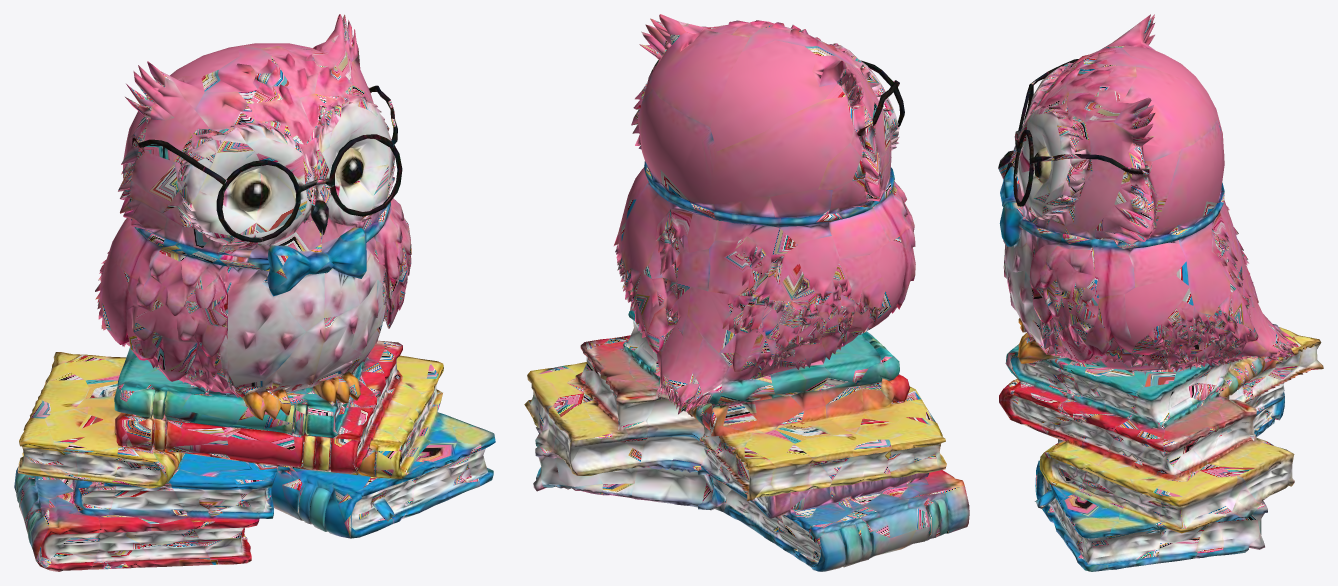
3 renders of one model, left to right at view 1: azimuth 30°, elevation 25°; view 2: azimuth 150°, elevation 25°; view 3: azimuth 270°, elevation 25°, orthographic. The views are drawn at different scales.
Size of the model in its own units: 1.84 by 1.9 by 1.31.
Materials: 1 (1 with a texture image).
